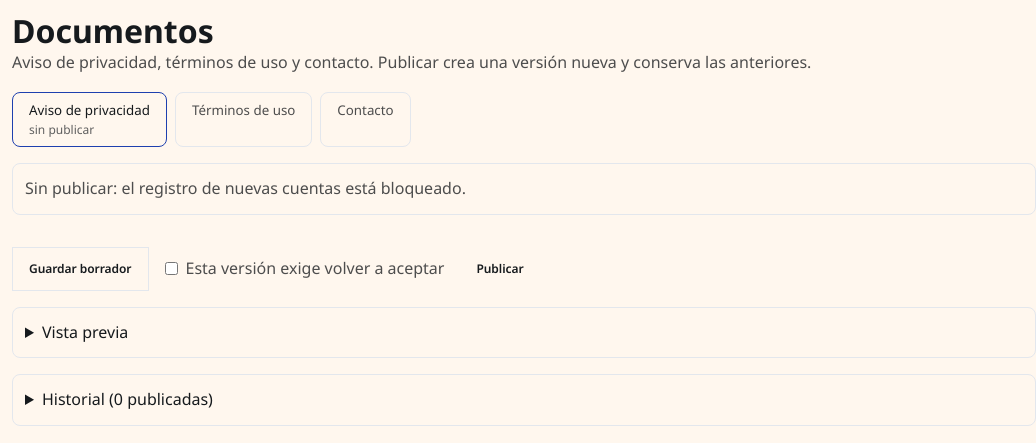
Scenario: AdminDocumentos › guardar borrador no publica nada
Click the button with test id "ad-guardar" at coordinates (80, 269), box [12,247,148,291]
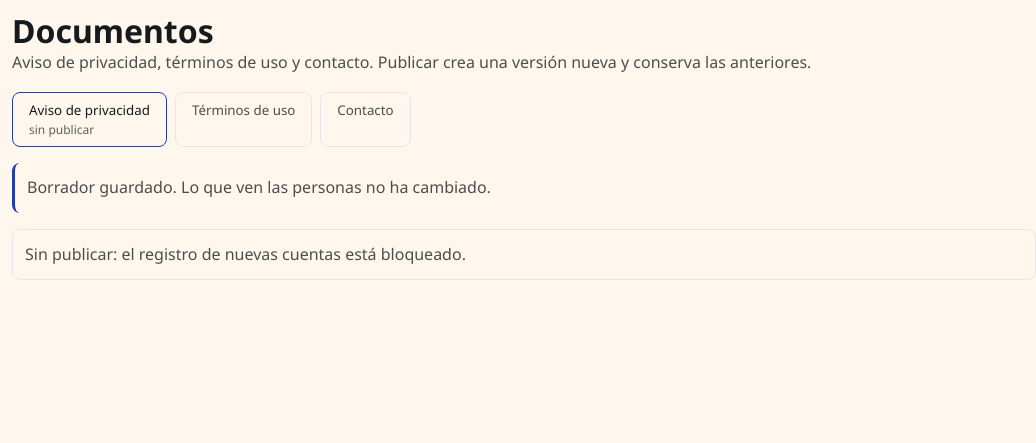
Check: the text with test id "ad-mensaje" shows "no ha cambiado", box [27,176,491,198]
